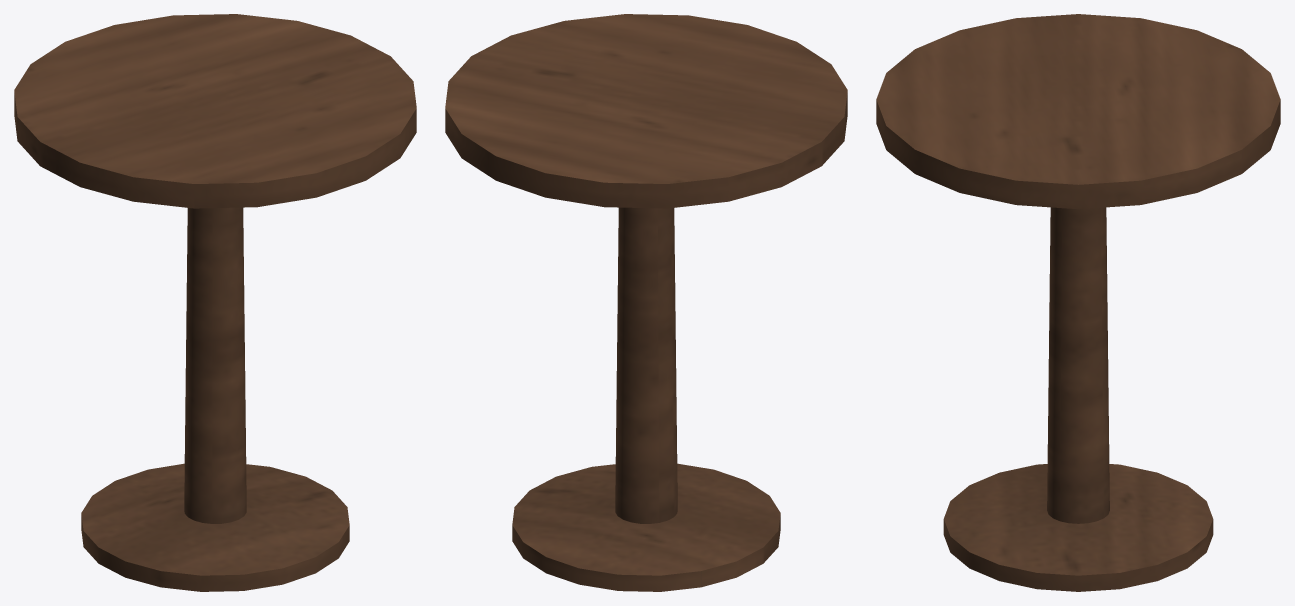
The model's file is H_SideTable.fbx.
3 renders of one model, left to right at view 1: azimuth 30°, elevation 25°; view 2: azimuth 150°, elevation 25°; view 3: azimuth 270°, elevation 25°, orthographic.
Visible parts, largest first — view 1: H_SideTable; view 2: H_SideTable; view 3: H_SideTable.
Part boxes in pixels (x1=…): H_SideTable: x1=14, y1=14, x2=416, y2=591; H_SideTable: x1=445, y1=14, x2=847, y2=591; H_SideTable: x1=876, y1=14, x2=1280, y2=591.
Bounding box in the file's own units: 180 × 214 × 180.
Materials: 1 (1 with a texture image).
